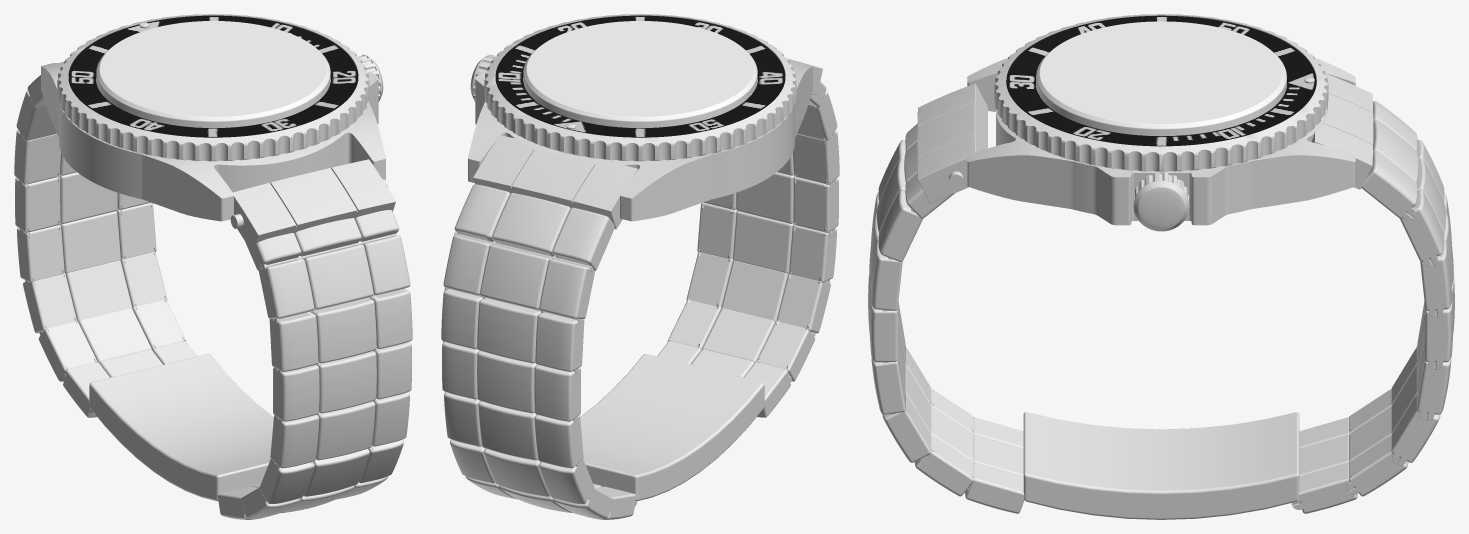
File: submariner.glb
3 views of the same model, side by side, from view 1: azimuth 30°, elevation 25°; view 2: azimuth 150°, elevation 25°; view 3: azimuth 270°, elevation 25° (orthographic). The views are drawn at different scales.
Parts seen in each view (by area): view 1: Стекло, Застёжка Oysterlock, Корпус, Безель, Концевое звено 6, Вставка безеля, Звено 6.2: центр, Звено 6.3: центр, Звено 6.4: центр, Звено 12.5: центр, Звено 12.6: центр, Звено 6.5: центр (+31 smaller); view 2: Стекло, Застёжка Oysterlock, Корпус, Безель, Вставка безеля, Концевое звено 12, Звено 12.1: центр, Звено 12.2: центр, Звено 12.3: центр, Звено 12.4: центр, Звено 6.5: центр, Звено 6.6: центр (+31 smaller); view 3: Застёжка Oysterlock, Стекло, Корпус, Безель, Вставка безеля, Концевое звено 6, Концевое звено 12, Головка, Звено 12.1: прав, Звено 6.8: прав, Звено 6.7: прав, Звено 12.8: прав (+26 smaller).
Boxes of the visible parts, x1=… form: Стекло: x1=96, y1=21, x2=330, y2=127; Застёжка Oysterlock: x1=89, y1=353, x2=273, y2=501; Корпус: x1=41, y1=63, x2=385, y2=221; Безель: x1=57, y1=14, x2=369, y2=161; Концевое звено 6: x1=233, y1=159, x2=395, y2=252; Вставка безеля: x1=68, y1=15, x2=358, y2=137; Звено 6.2: центр: x1=302, y1=244, x2=373, y2=309; Звено 6.3: центр: x1=312, y1=298, x2=376, y2=363; Звено 6.4: центр: x1=316, y1=351, x2=376, y2=413; Звено 12.5: центр: x1=60, y1=211, x2=120, y2=273; Звено 12.6: центр: x1=65, y1=260, x2=132, y2=321; Звено 6.5: центр: x1=316, y1=401, x2=375, y2=460; Стекло: x1=523, y1=21, x2=757, y2=127; Застёжка Oysterlock: x1=580, y1=354, x2=764, y2=501; Корпус: x1=468, y1=63, x2=812, y2=221; Безель: x1=484, y1=14, x2=796, y2=161; Вставка безеля: x1=495, y1=15, x2=785, y2=137; Концевое звено 12: x1=473, y1=135, x2=637, y2=229; Звено 12.1: центр: x1=492, y1=193, x2=570, y2=256; Звено 12.2: центр: x1=480, y1=244, x2=551, y2=309; Звено 12.3: центр: x1=477, y1=298, x2=541, y2=363; Звено 12.4: центр: x1=477, y1=351, x2=537, y2=413; Звено 6.5: центр: x1=733, y1=211, x2=793, y2=273; Звено 6.6: центр: x1=721, y1=260, x2=788, y2=321; Застёжка Oysterlock: x1=1023, y1=412, x2=1299, y2=519; Стекло: x1=1036, y1=21, x2=1286, y2=136; Корпус: x1=967, y1=58, x2=1355, y2=225; Безель: x1=994, y1=14, x2=1328, y2=171; Вставка безеля: x1=1006, y1=15, x2=1316, y2=146; Концевое звено 6: x1=917, y1=83, x2=987, y2=203; Концевое звено 12: x1=1311, y1=73, x2=1373, y2=189; Головка: x1=1133, y1=172, x2=1189, y2=231; Звено 12.1: прав: x1=1361, y1=151, x2=1417, y2=218; Звено 6.8: прав: x1=965, y1=462, x2=1024, y2=513; Звено 6.7: прав: x1=914, y1=435, x2=974, y2=496; Звено 12.8: прав: x1=1298, y1=462, x2=1357, y2=513.
Bounding box in the file's own units: 44.75 × 56.7 × 71.98.
17 materials, 3 textured.
